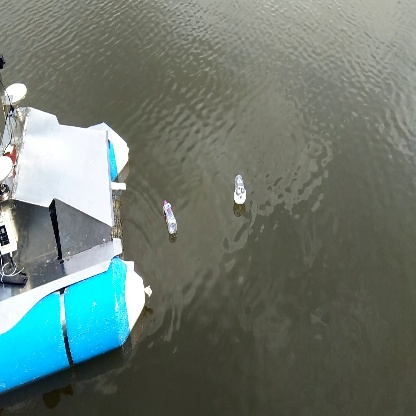bottle: (159, 198, 179, 237), (230, 172, 250, 206)
